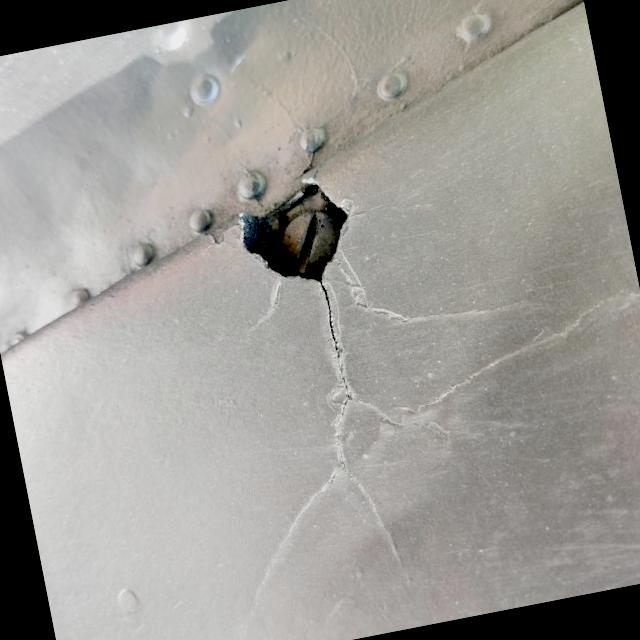crack: (172, 120, 430, 444)
